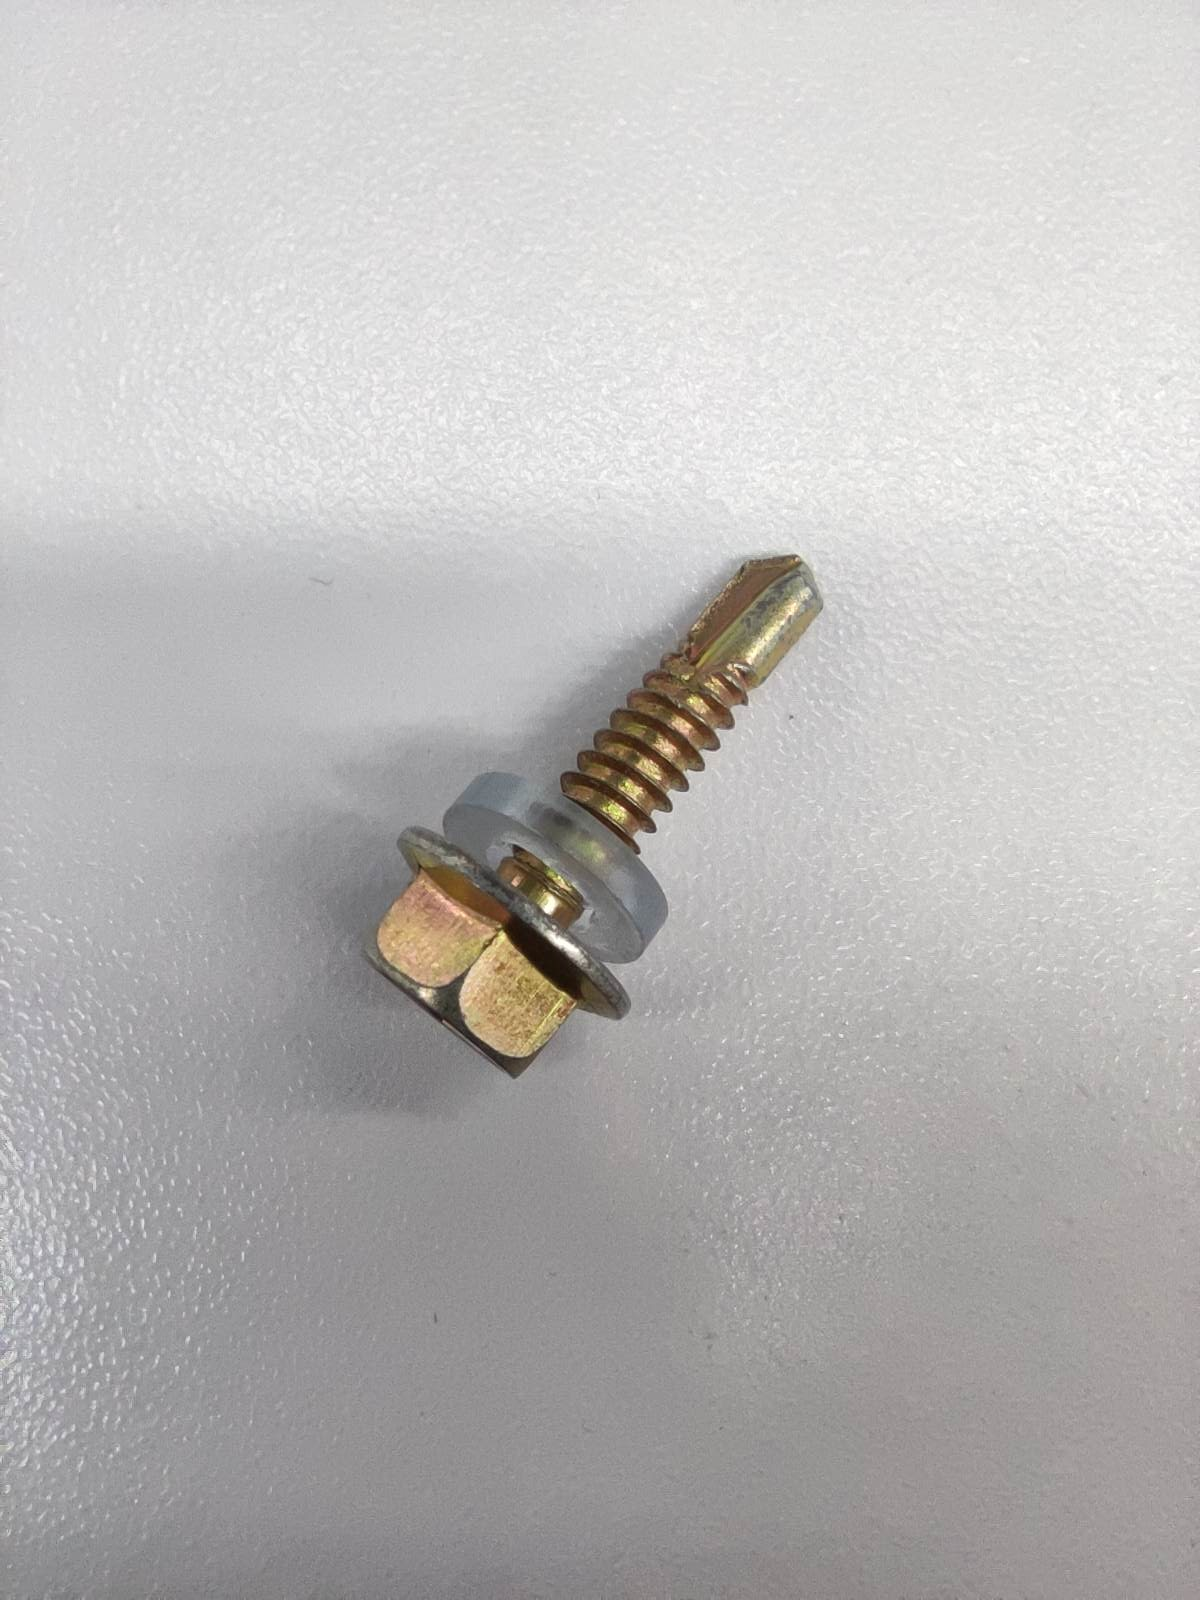燕尾自攻螺丝: (359, 551, 824, 1078)
